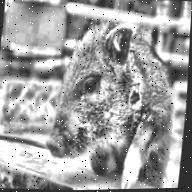boar: (41, 3, 192, 191)
